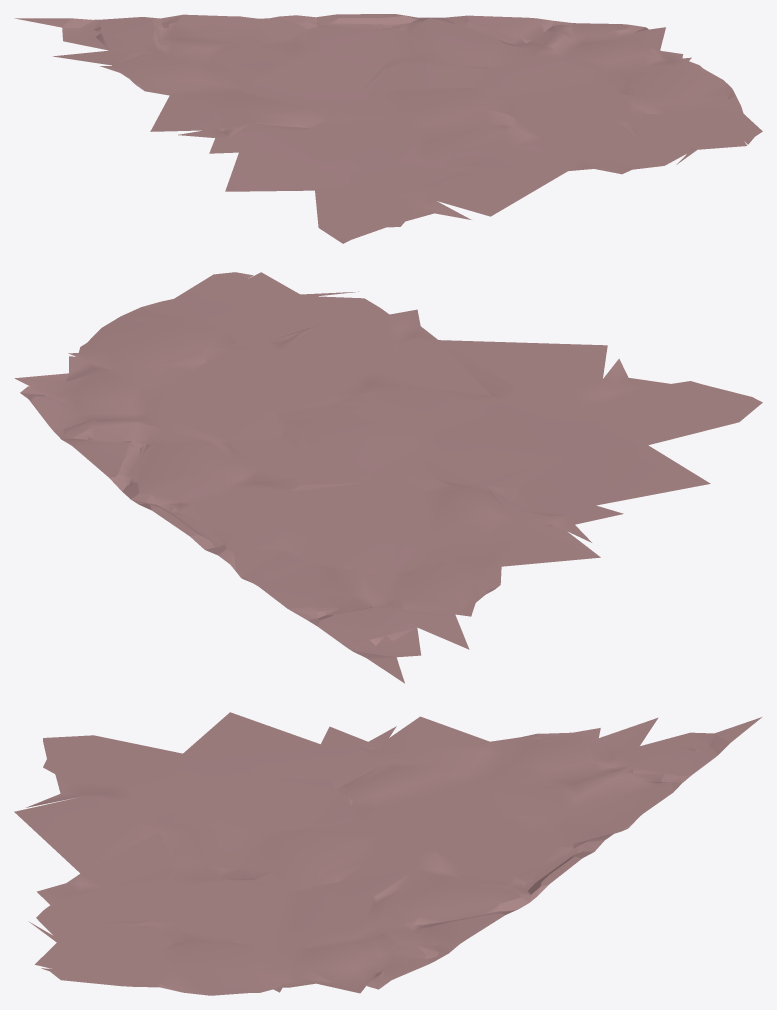
Rendered from pleateauArea1.fbx_PolyShape__46__005LODs.fbx.
3 views of the same model, one above another, from view 1: azimuth 30°, elevation 25°; view 2: azimuth 150°, elevation 25°; view 3: azimuth 270°, elevation 25° (orthographic). The views are drawn at different scales.
Visible parts, largest first — view 1: PolyShape (46).005_LOD0; view 2: PolyShape (46).005_LOD0; view 3: PolyShape (46).005_LOD0.
Part boxes in pixels (x1=…): PolyShape (46).005_LOD0: x1=14, y1=14, x2=762, y2=243; PolyShape (46).005_LOD0: x1=14, y1=272, x2=762, y2=683; PolyShape (46).005_LOD0: x1=14, y1=712, x2=761, y2=995.
Size of what is drawn, in the model's own units: 6576 by 94.55 by 7308.
